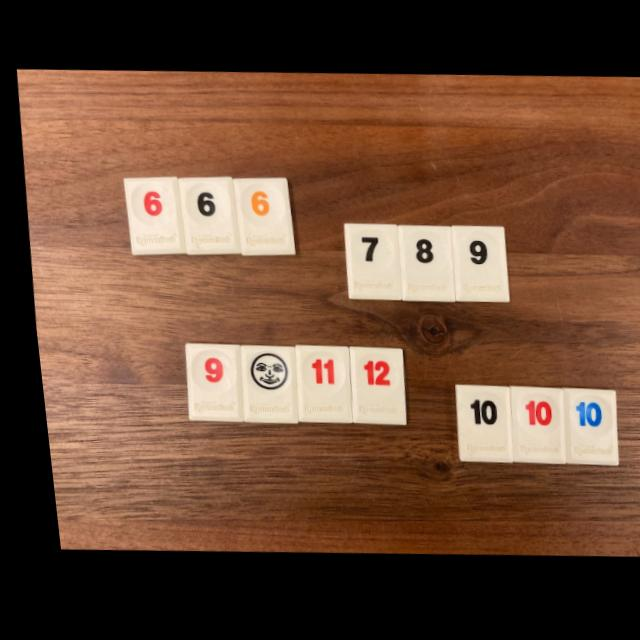black_10: (446, 386, 501, 464)
black_6: (174, 177, 235, 255)
black_7: (338, 224, 394, 301)
black_8: (393, 227, 449, 303)
black_9: (445, 227, 503, 304)
blue_10: (553, 390, 606, 468)
joker: (233, 346, 289, 424)
orange_6: (228, 178, 288, 256)
red_10: (501, 388, 554, 465)
red_11: (288, 346, 341, 424)
red_12: (340, 348, 395, 426)
red_6: (119, 178, 179, 255)
red_9: (177, 344, 232, 422)
